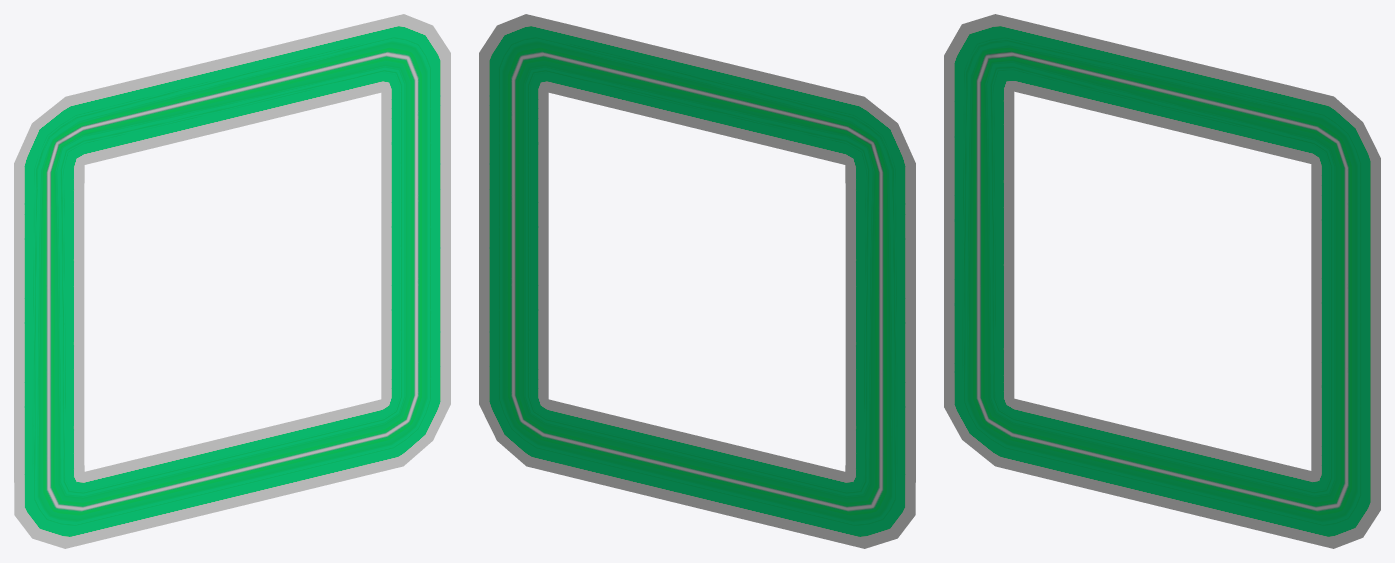
Rendered from plane041_qiandao.FBX.
3 views of the same model, side by side, from view 1: azimuth 30°, elevation 25°; view 2: azimuth 150°, elevation 25°; view 3: azimuth 330°, elevation 25° (orthographic).
Parts seen in each view (by area): view 1: Plane002; view 2: Plane002; view 3: Plane002.
Part boxes in pixels (x1=…): Plane002: x1=14, y1=14, x2=450, y2=548; Plane002: x1=479, y1=14, x2=915, y2=548; Plane002: x1=944, y1=14, x2=1380, y2=548.
Size of the model in its own units: 137 by 136 by 2.22e-05.
